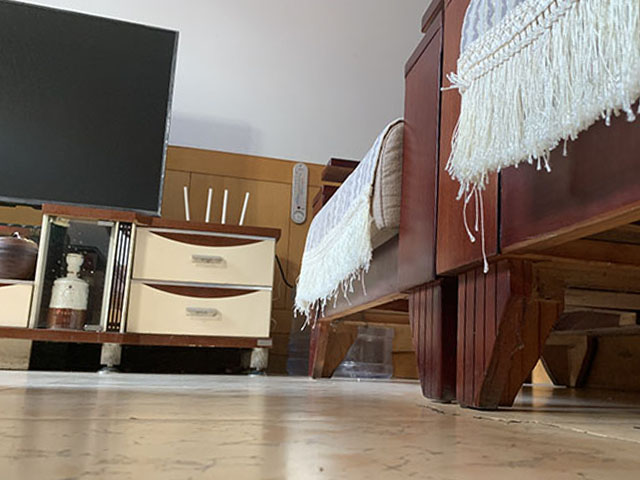cabinet: (22, 209, 282, 375)
sofa: (443, 1, 640, 411), (299, 1, 453, 401)
